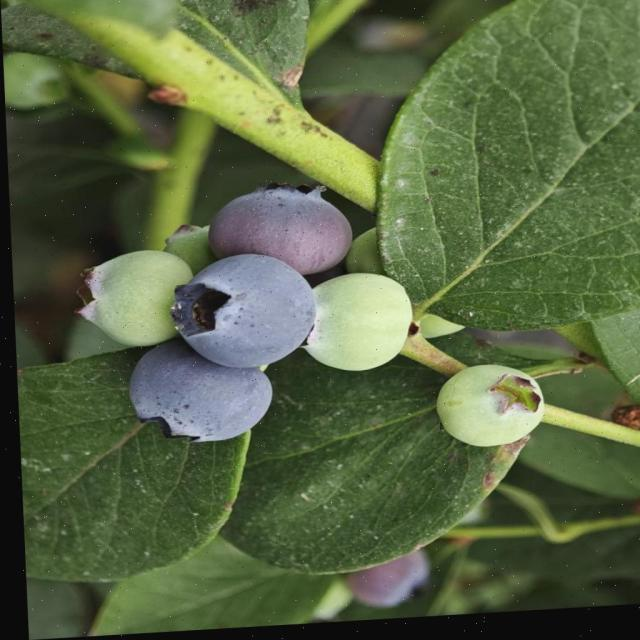RipeBlueBerry: (168, 256, 316, 374), (205, 185, 356, 282), (127, 348, 269, 448)
UnripeBlueBerry: (70, 252, 188, 349), (304, 276, 409, 379), (430, 369, 542, 455)
